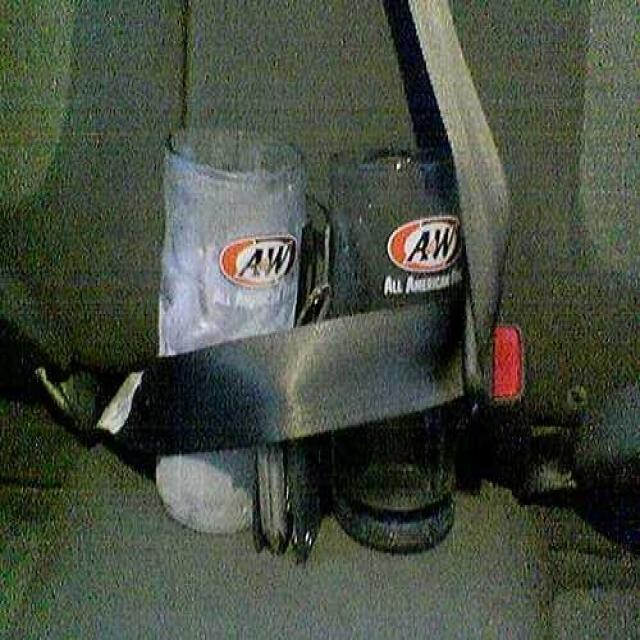seatbelt: (398, 1, 570, 472)
